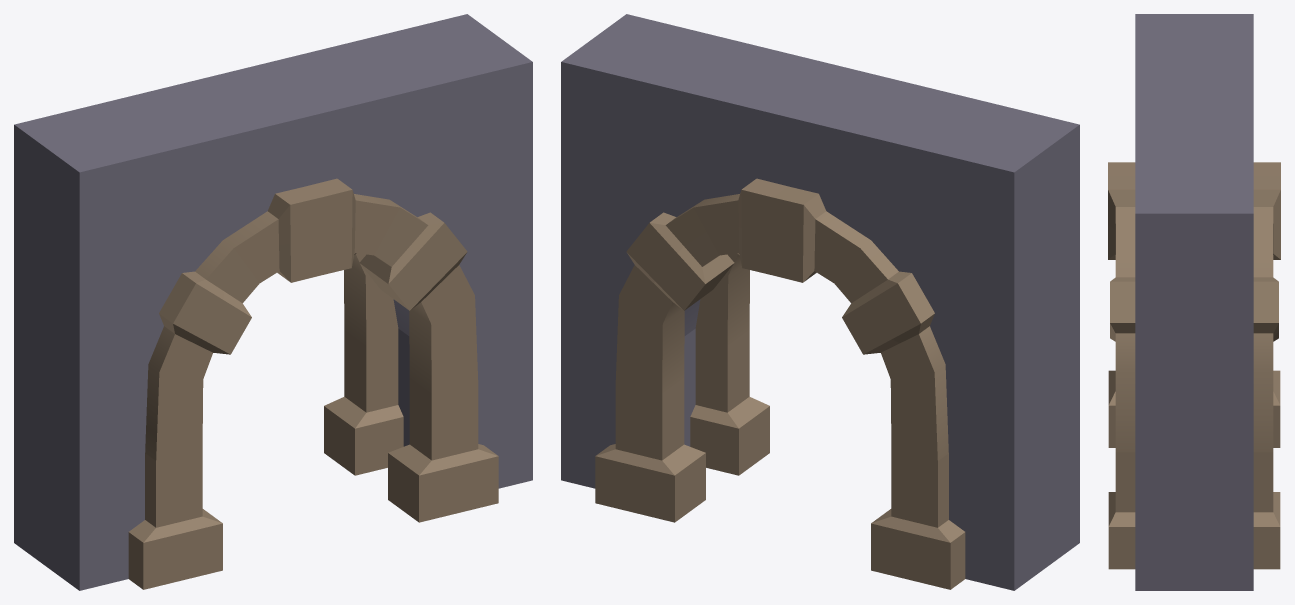
The model's file is arcopassagem.fbx.
3 views of the same model, side by side, from view 1: azimuth 30°, elevation 25°; view 2: azimuth 150°, elevation 25°; view 3: azimuth 270°, elevation 25° (orthographic). The views are drawn at different scales.
Visible parts, largest first — view 1: arcopassagemestrutura, arcopassagemporta2, arcopassagemporta1; view 2: arcopassagemestrutura, arcopassagemporta1, arcopassagemporta2; view 3: arcopassagemestrutura, arcopassagemporta1, arcopassagemporta2.
Part boxes in pixels (bbox=[...]): arcopassagemestrutura: bbox=[14, 14, 532, 590]; arcopassagemporta2: bbox=[128, 178, 498, 589]; arcopassagemporta1: bbox=[324, 253, 403, 475]; arcopassagemestrutura: bbox=[561, 14, 1079, 590]; arcopassagemporta1: bbox=[595, 178, 965, 589]; arcopassagemporta2: bbox=[690, 253, 769, 475]; arcopassagemestrutura: bbox=[1135, 14, 1253, 590]; arcopassagemporta1: bbox=[1253, 162, 1280, 569]; arcopassagemporta2: bbox=[1108, 162, 1135, 569].
Size of the model in its own units: 4 by 3.53 by 1.47.
